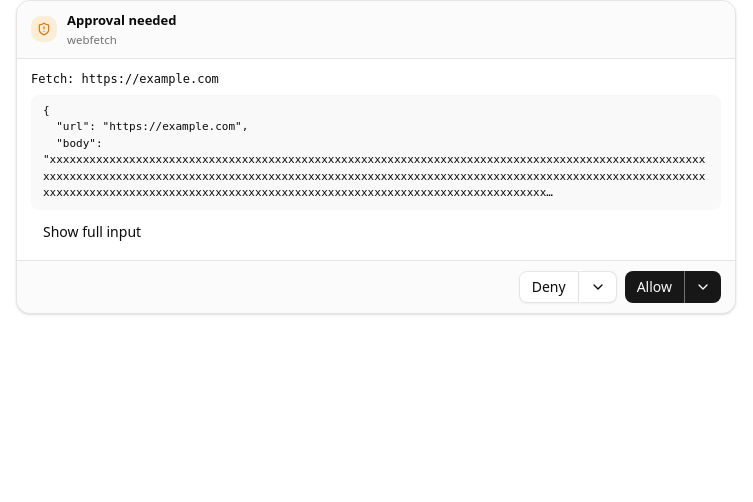
generic tool previews input until the full input is requested
Expected: the text "Fetch: https://example.com" is shown, [31, 72, 219, 86]
Click the button "Show full input" at (92, 232), box [31, 216, 153, 248]
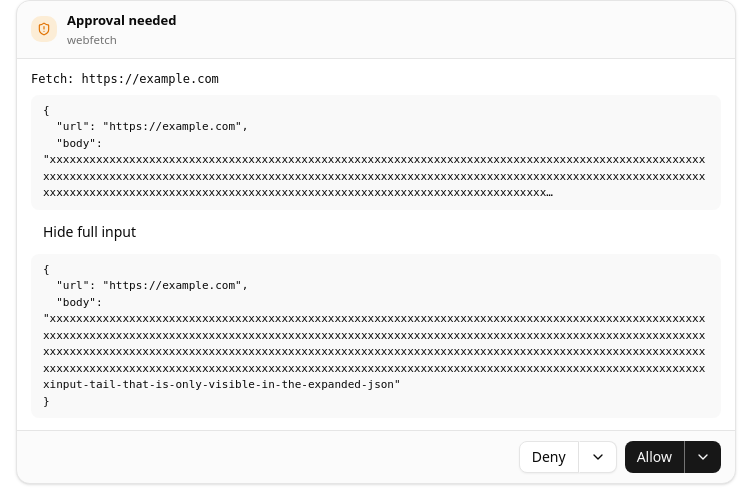
Result: the text with test id "approval-full-input" shows "input-tail-that-is-only-visible-in-the-expanded-json" at [43, 263, 705, 408]
Result: the button "Hide full input" is expanded at [31, 216, 148, 248]
